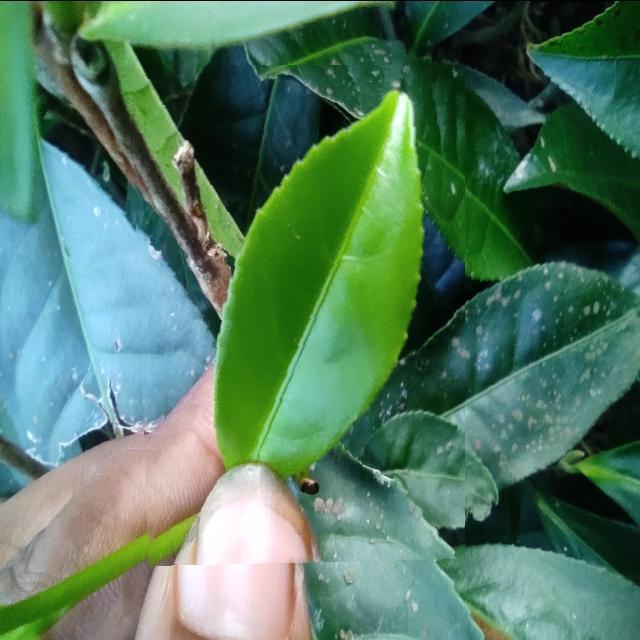Category C(4-7 days): (130, 64, 465, 565)
